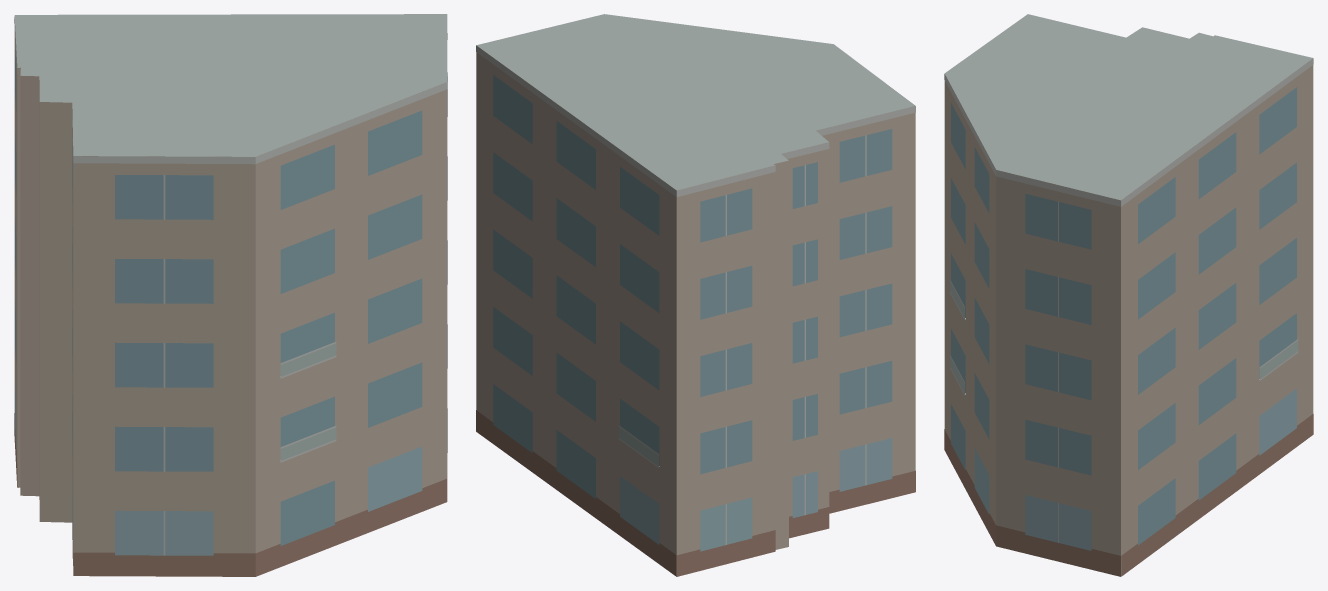
Rendered from survey-upis-33025292.glb.
3 renders of one model, left to right at view 1: azimuth 30°, elevation 25°; view 2: azimuth 150°, elevation 25°; view 3: azimuth 270°, elevation 25°, orthographic. The views are drawn at different scales.
Parts seen in each view (by area): view 1: survey-upis-33025292.tmp; view 2: survey-upis-33025292.tmp; view 3: survey-upis-33025292.tmp.
Part boxes in pixels (x1=…): survey-upis-33025292.tmp: x1=14, y1=14, x2=447, y2=576; survey-upis-33025292.tmp: x1=476, y1=14, x2=915, y2=576; survey-upis-33025292.tmp: x1=944, y1=14, x2=1313, y2=576.
Size of the model in its own units: 14.98 by 14.1 by 12.53.
